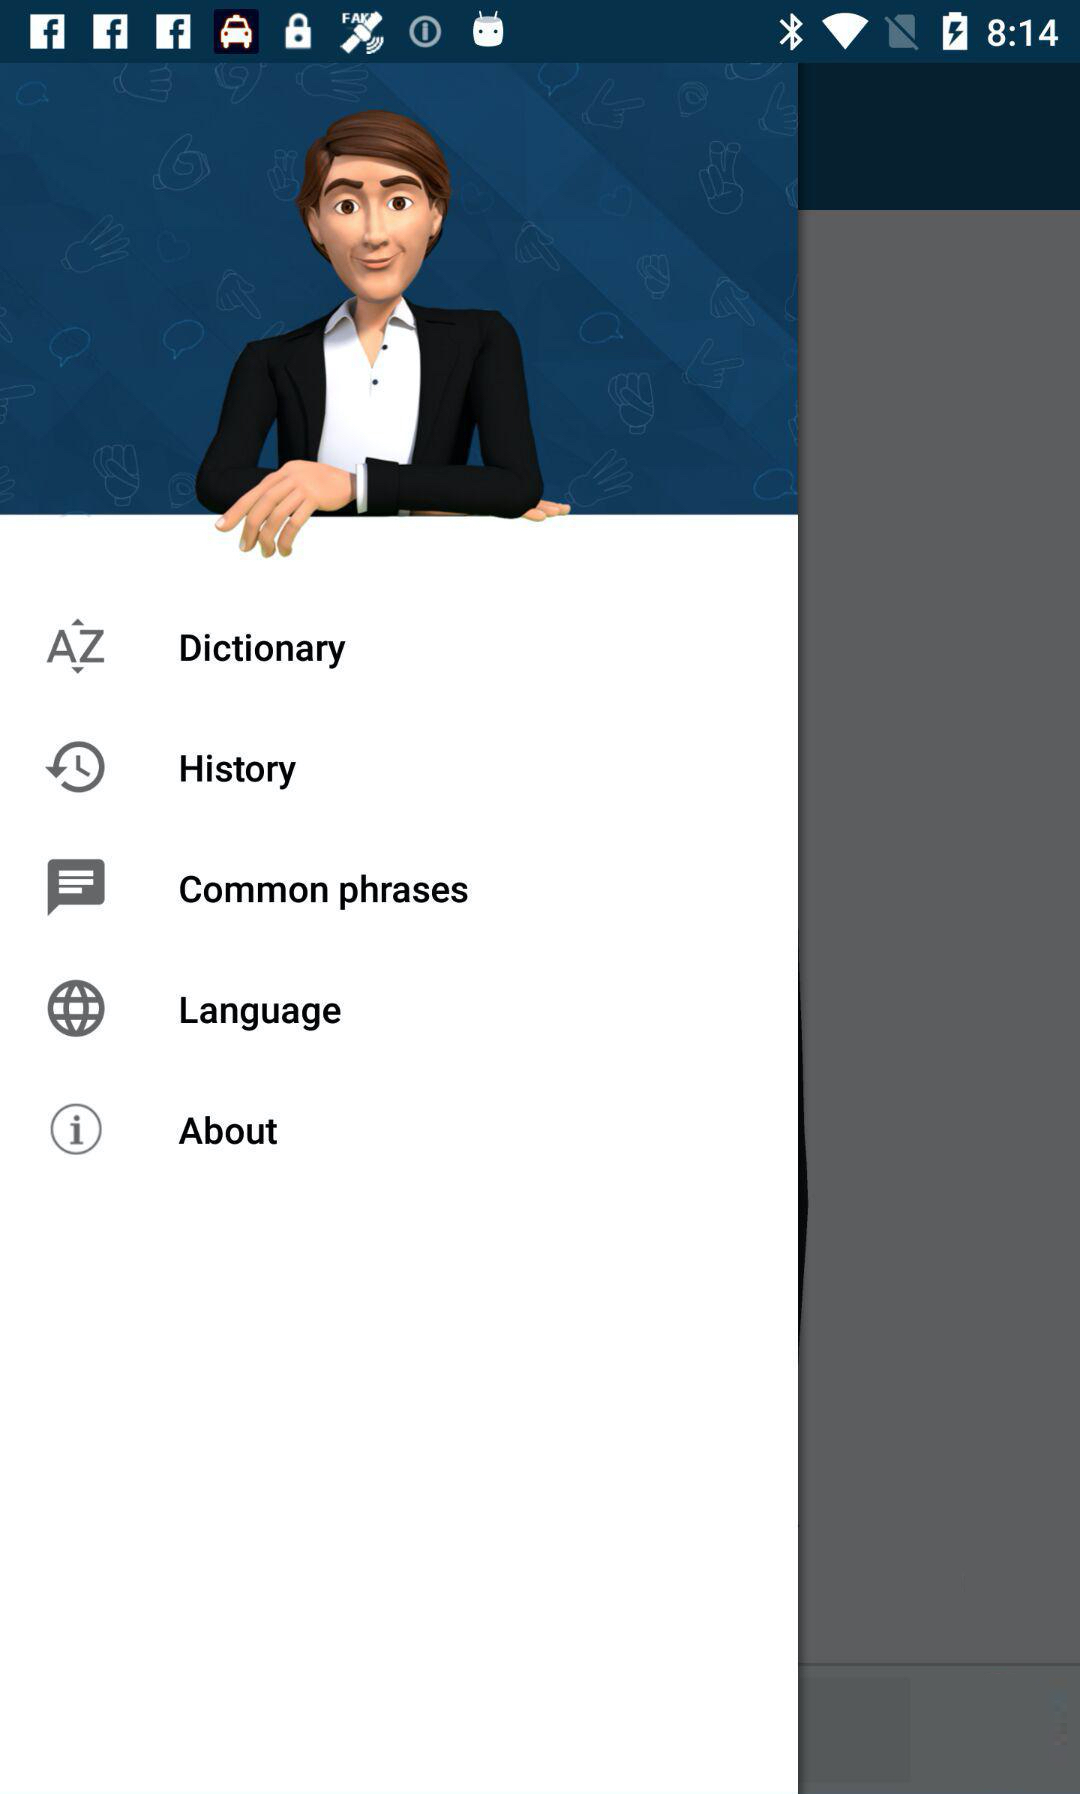Drawer: (1, 63, 798, 1794)
Icon: (47, 859, 108, 918), (45, 741, 108, 794), (50, 1103, 104, 1156)
Image: (1, 63, 798, 559), (47, 979, 108, 1038)
Text: (179, 873, 469, 912), (181, 633, 347, 671), (179, 996, 343, 1033), (179, 753, 299, 791), (46, 618, 108, 677), (178, 1115, 279, 1146)
UpperTaskBar: (1, 1, 1080, 64)
